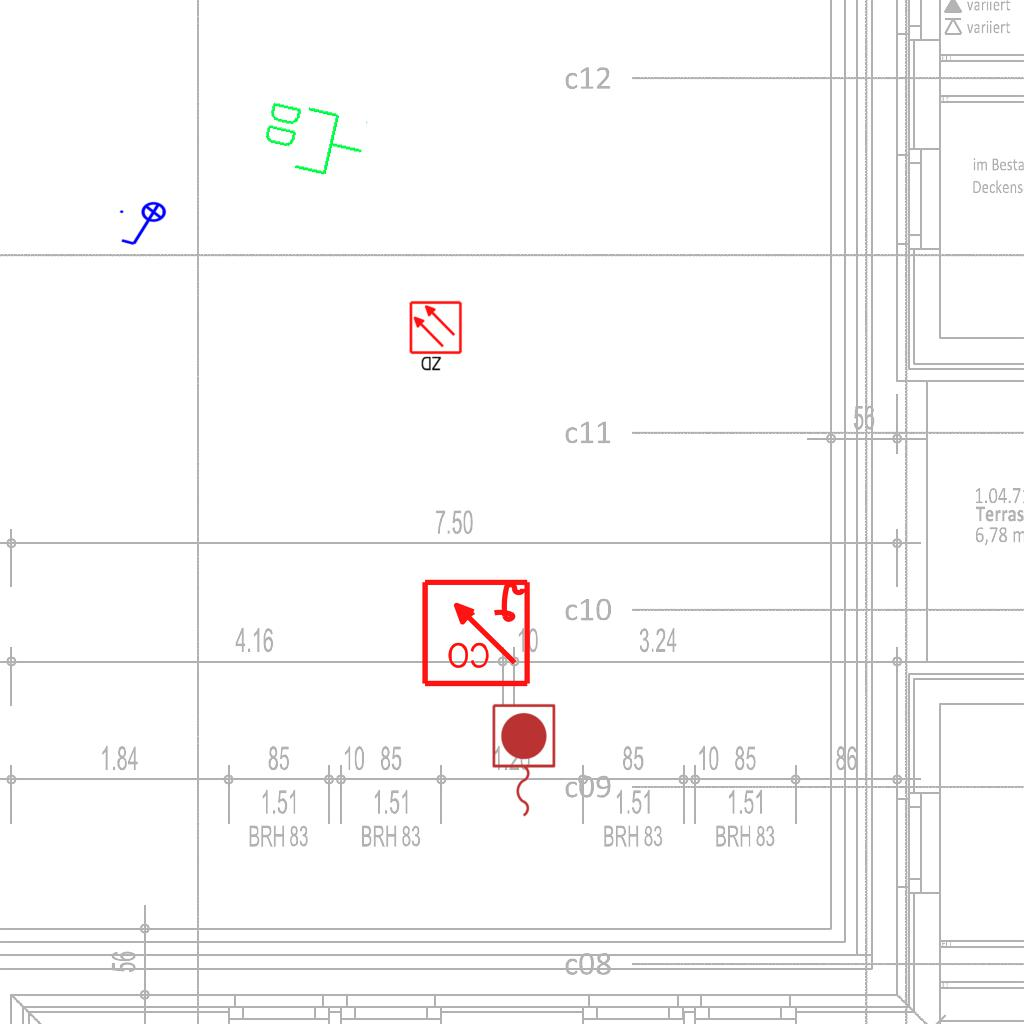Ausschalter_beleuchtet: (117, 201, 173, 249)
Datenanschluss_zweifach: (255, 94, 372, 185)
ROA_Rauchmelder_optisch_mit_Signalgeber_(Sockelsirene): (419, 575, 532, 688)
ZD_Melder_in_Zwischendecke_mit_Revisionsoeffnung_mind_40_x_40_cm: (408, 300, 465, 374)
Zugtaster: (487, 700, 559, 822)
